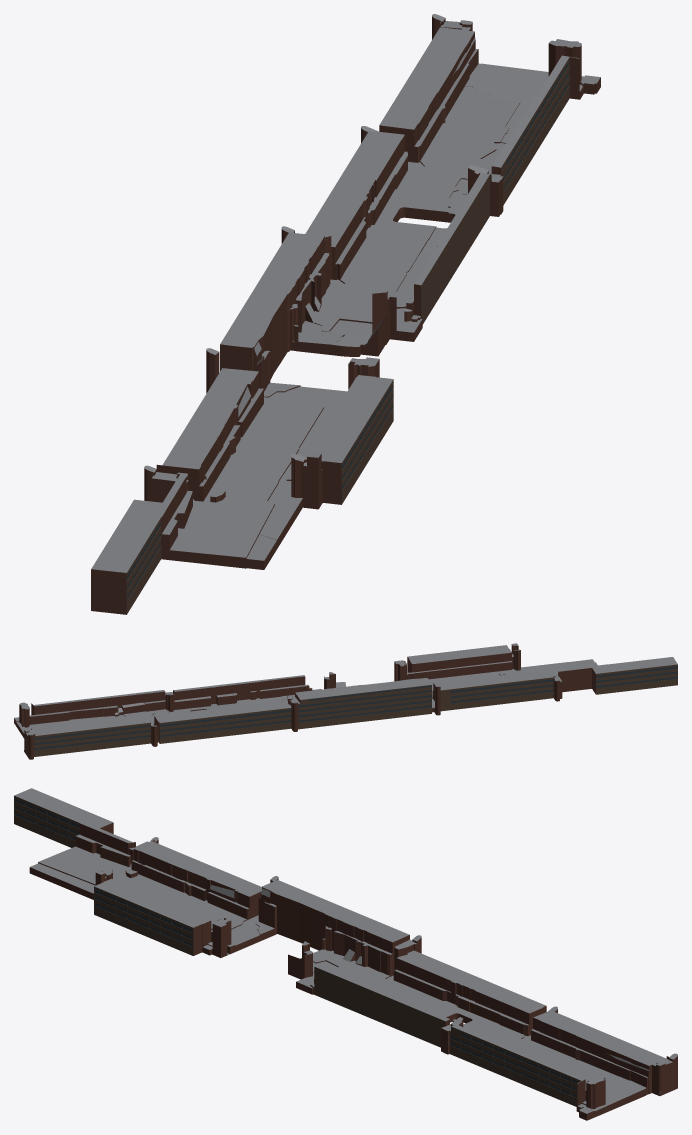
File: recipe-large-kattenburgerstraat-164930.glb
The picture shows the model from 3 angles, top to bottom: view 1: azimuth 30°, elevation 25°; view 2: azimuth 150°, elevation 25°; view 3: azimuth 270°, elevation 25°; orthographic projection. The views are drawn at different scales.
Parts seen in each view (by area): view 1: kattenburgerstraat-164930; view 2: kattenburgerstraat-164930; view 3: kattenburgerstraat-164930.
Boxes of the visible parts, left/top/right/bottom form: kattenburgerstraat-164930: left=91, top=14, right=600, bottom=614; kattenburgerstraat-164930: left=14, top=643, right=677, bottom=759; kattenburgerstraat-164930: left=14, top=788, right=677, bottom=1120.
Bounding box in the file's own units: 318 × 19.28 × 293.
